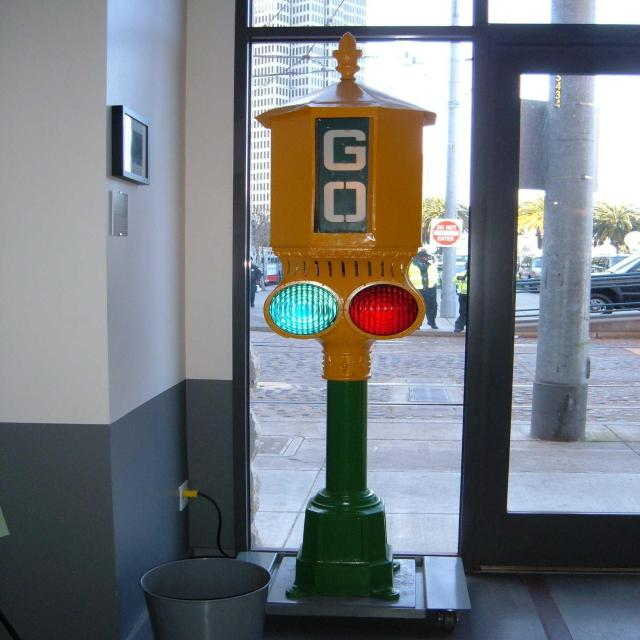Traffic Light -Off-: (246, 279, 452, 353)
